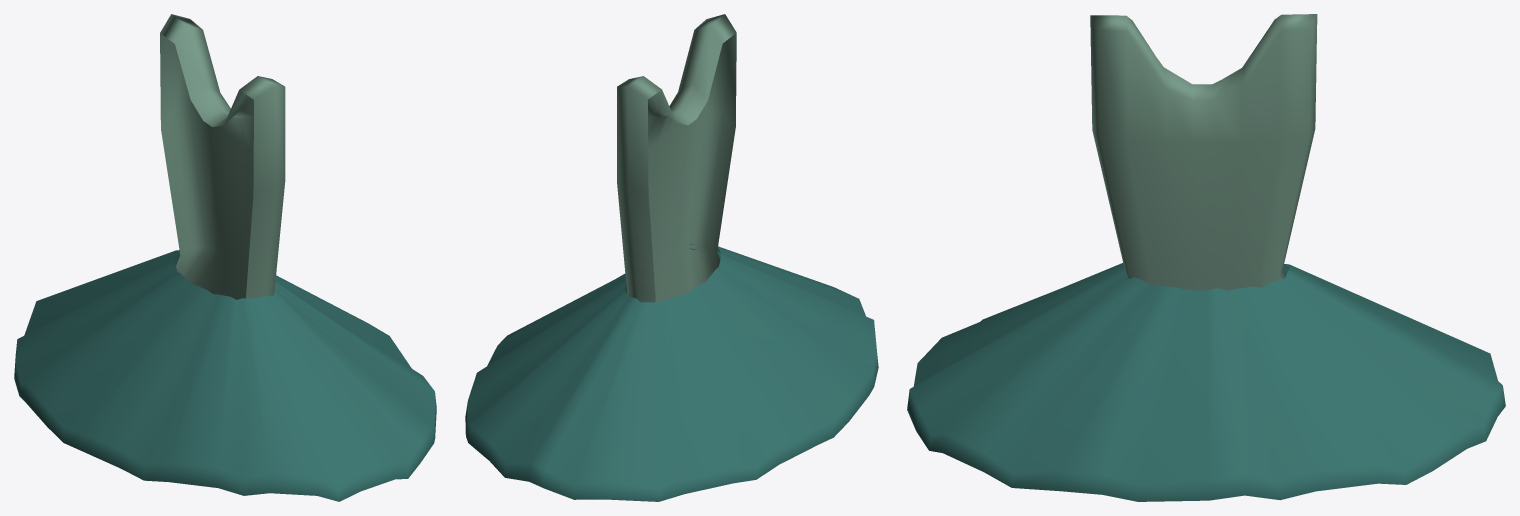
The model's file is Tutu.fbx.
3 renders of one model, left to right at view 1: azimuth 30°, elevation 25°; view 2: azimuth 150°, elevation 25°; view 3: azimuth 270°, elevation 25°, orthographic. The views are drawn at different scales.
Visible parts, largest first — view 1: Tutu, Leotard; view 2: Tutu, Leotard; view 3: Tutu, Leotard.
Part boxes in pixels (left/top/right/bottom): Tutu: left=14, top=250, right=436, bottom=501; Leotard: left=160, top=14, right=285, bottom=299; Tutu: left=465, top=243, right=878, bottom=501; Leotard: left=617, top=14, right=736, bottom=302; Tutu: left=907, top=263, right=1505, bottom=501; Leotard: left=1090, top=14, right=1317, bottom=290.
Size of the model in its own units: 45.48 by 53.62 by 63.12.
